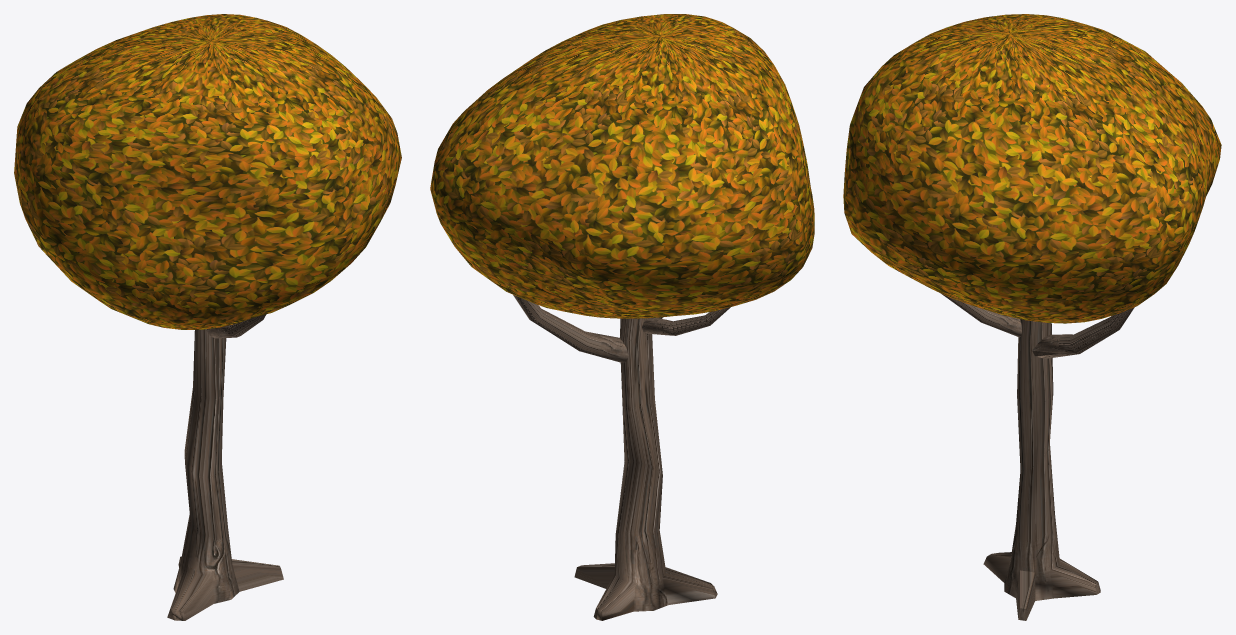
The model's file is tree.glb.
The picture shows the model from 3 angles, left to right: view 1: azimuth 30°, elevation 25°; view 2: azimuth 150°, elevation 25°; view 3: azimuth 270°, elevation 25°; orthographic projection.
Parts seen in each view (by area): view 1: Sphere001, Cylinder001; view 2: Sphere001, Cylinder001; view 3: Sphere001, Cylinder001.
Part boxes in pixels (x1,y1,x2,y2): Sphere001: [14, 14, 401, 329]; Cylinder001: [167, 314, 283, 620]; Sphere001: [430, 14, 814, 318]; Cylinder001: [513, 295, 730, 620]; Sphere001: [843, 14, 1221, 323]; Cylinder001: [942, 294, 1134, 620].
Size of the model in its own units: 2.99 by 4.73 by 2.95.
2 materials, 2 textured.
